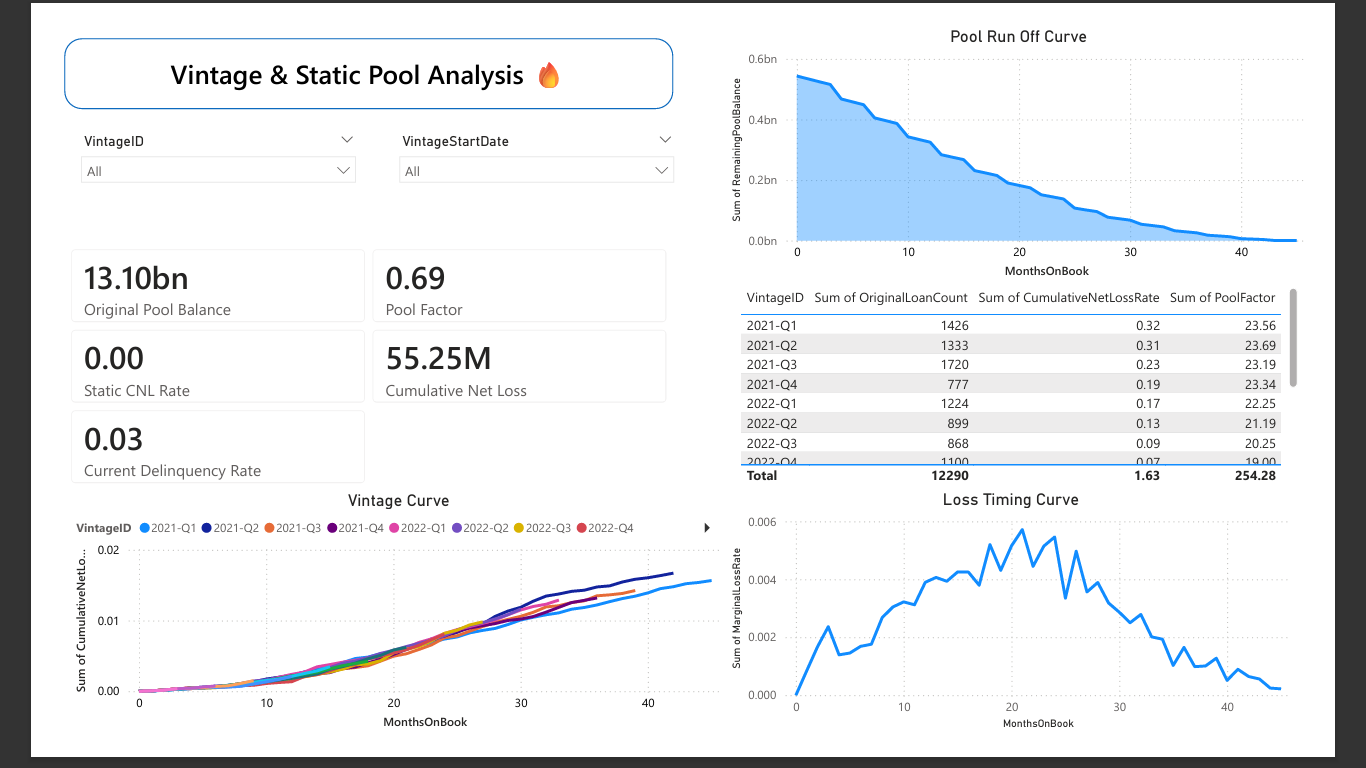

Layout of this report page (visuals, bound fields, positions):
{"tool":"powerbi","page":{"name":"vintageand static pool analysis","canvas":[1280,720],"ordinal":2},"visuals":[{"type":"cardVisual","fields":{"Data":["projects dim_date.Original Pool Balance","projects dim_date.Pool Factor","projects dim_date.Static CNL Rate","projects dim_date.Cumulative Net Loss","projects dim_date.Current Delinquency Rate"]},"box":[0,210.1,640.6,272.5],"z":0},{"type":"lineChart","title":"Vintage Curve","fields":{"Category":["projects static_pool.MonthsOnBook"],"Y":["Sum(projects static_pool.CumulativeNetLossRate)"],"Series":["projects static_pool.VintageID"]},"box":[17.4,472.5,666.7,247.8],"z":1000},{"type":"areaChart","title":"Pool Run Off Curve","fields":{"Category":["projects static_pool.MonthsOnBook"],"Y":["Sum(projects static_pool.RemainingPoolBalance)"]},"box":[684.1,0,595.7,260.9],"z":2000},{"type":"lineChart","title":"Loss Timing Curve","fields":{"Category":["projects static_pool.MonthsOnBook"],"Y":["Sum(projects static_pool.MarginalLossRate)"]},"box":[684.1,471,579.7,249.3],"z":3000},{"type":"tableEx","fields":{"Values":["projects static_pool.VintageID","Sum(projects static_pool.OriginalLoanCount)","Sum(projects static_pool.CumulativeNetLossRate)","Sum(projects static_pool.PoolFactor)"]},"box":[694.2,260.9,576.8,210.1],"z":4000},{"type":"shape","box":[10.1,11.6,620.3,72.5],"z":5000},{"type":"slicer","fields":{"Values":["projects static_pool.VintageID"]},"box":[17.4,104.3,300,88.4],"z":6000},{"type":"slicer","fields":{"Values":["projects static_pool.VintageStartDate"]},"box":[340.6,104.3,300,88.4],"z":7000}]}

Visuals, with their boxes in screenshot pixels (x1, y1, x2, y2), scaled from the page's 1280x720 canvas onto the 1366x768 screenshot:
cardVisual - projects dim_date.Original Pool Balance x projects dim_date.Pool Factor: box(0, 224, 684, 515)
"Vintage Curve" lineChart: box(19, 504, 730, 767)
"Pool Run Off Curve" areaChart: box(730, 0, 1365, 278)
"Loss Timing Curve" lineChart: box(730, 502, 1349, 767)
tableEx - projects static_pool.VintageID x Sum(projects static_pool.OriginalLoanCount): box(741, 278, 1356, 502)
shape: box(11, 12, 673, 90)
slicer - projects static_pool.VintageID: box(19, 111, 339, 206)
slicer - projects static_pool.VintageStartDate: box(363, 111, 684, 206)
